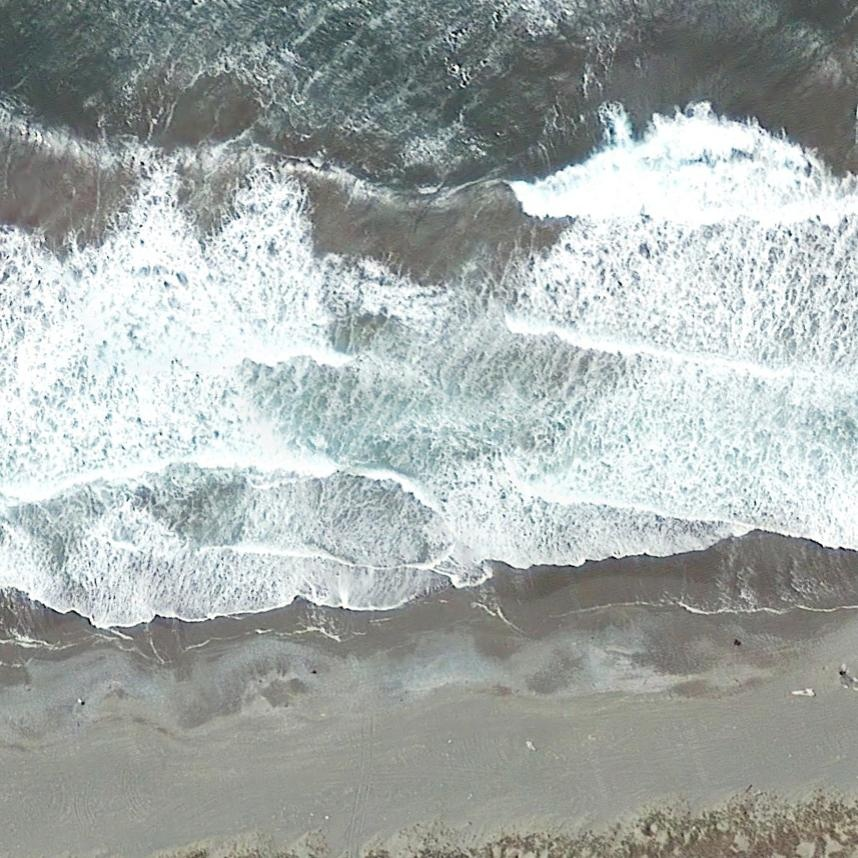rip_current: (269, 90, 556, 539)
